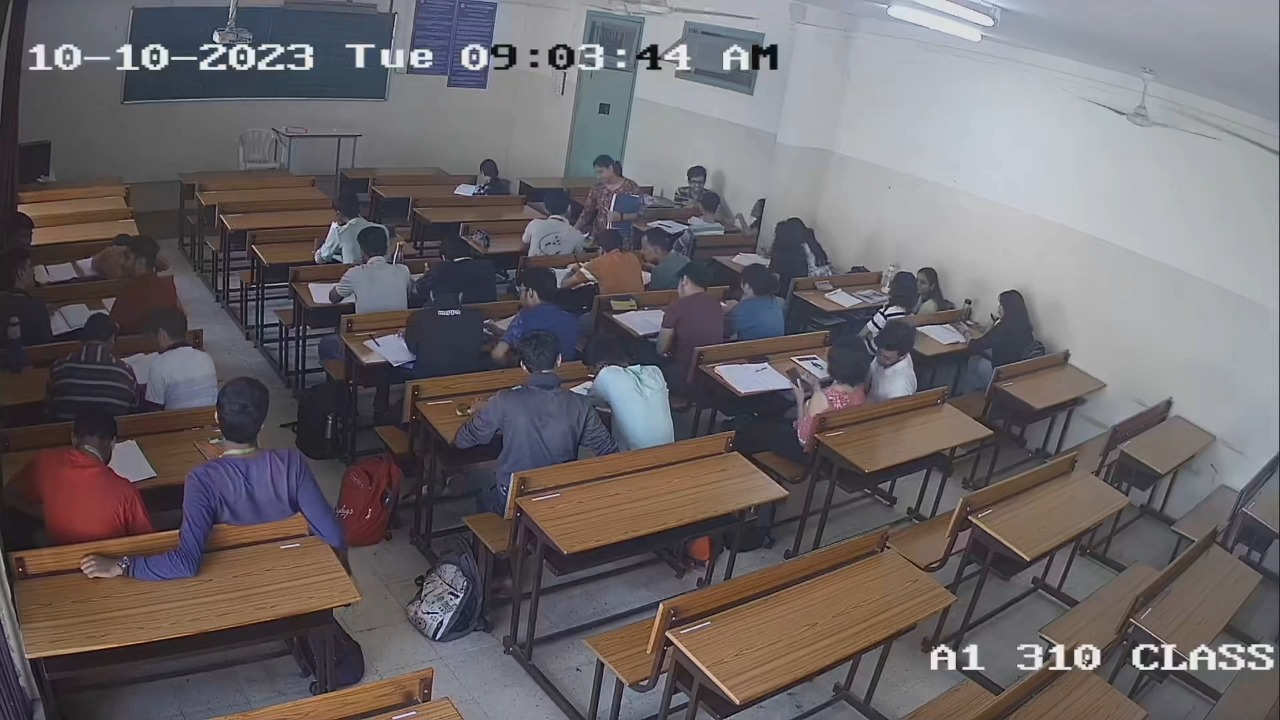cell-phones: (608, 294, 639, 313), (785, 366, 805, 387), (812, 279, 835, 291), (746, 354, 770, 365)
person: (658, 265, 725, 344), (807, 340, 867, 407), (871, 272, 919, 319)
